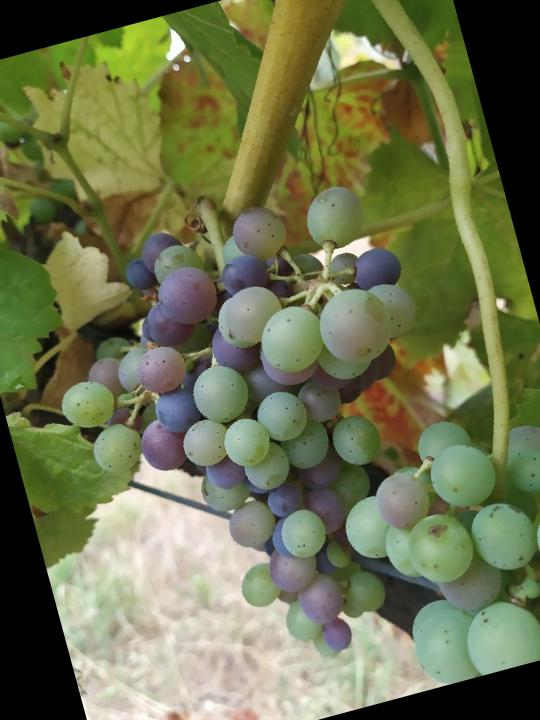grape: (19, 169, 501, 716)
